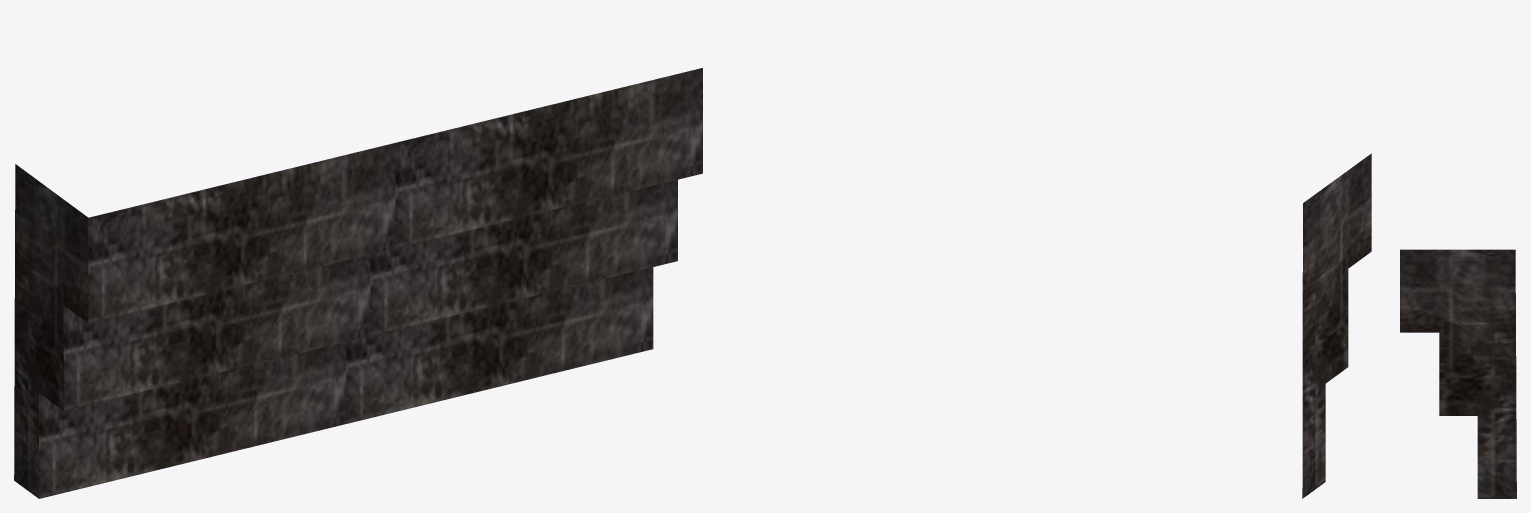
3 views of the same model, side by side, from view 1: azimuth 30°, elevation 25°; view 2: azimuth 150°, elevation 25°; view 3: azimuth 270°, elevation 25° (orthographic). The views are drawn at different scales.
Parts seen in each view (by area): view 1: model_Object10; view 2: model_Object10; view 3: model_Object10.
Boxes of the visible parts, bbox=[...] form: model_Object10: bbox=[14, 68, 702, 498]; model_Object10: bbox=[1302, 153, 1371, 498]; model_Object10: bbox=[1400, 249, 1516, 498].
Size of the model in its own units: 2 by 0.9868 by 0.419.
Materials: 1 (1 with a texture image).
